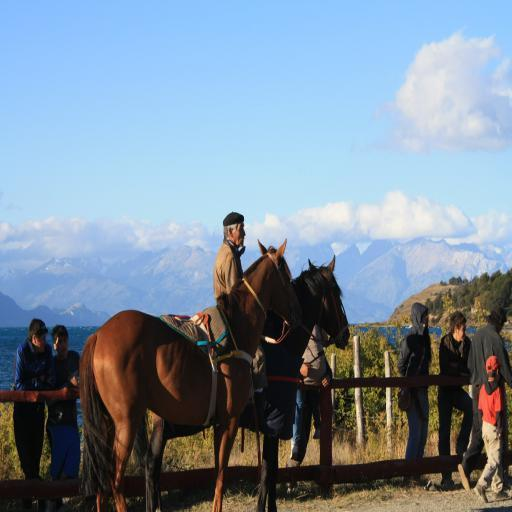horse: (78, 236, 304, 512), (142, 252, 352, 512)
